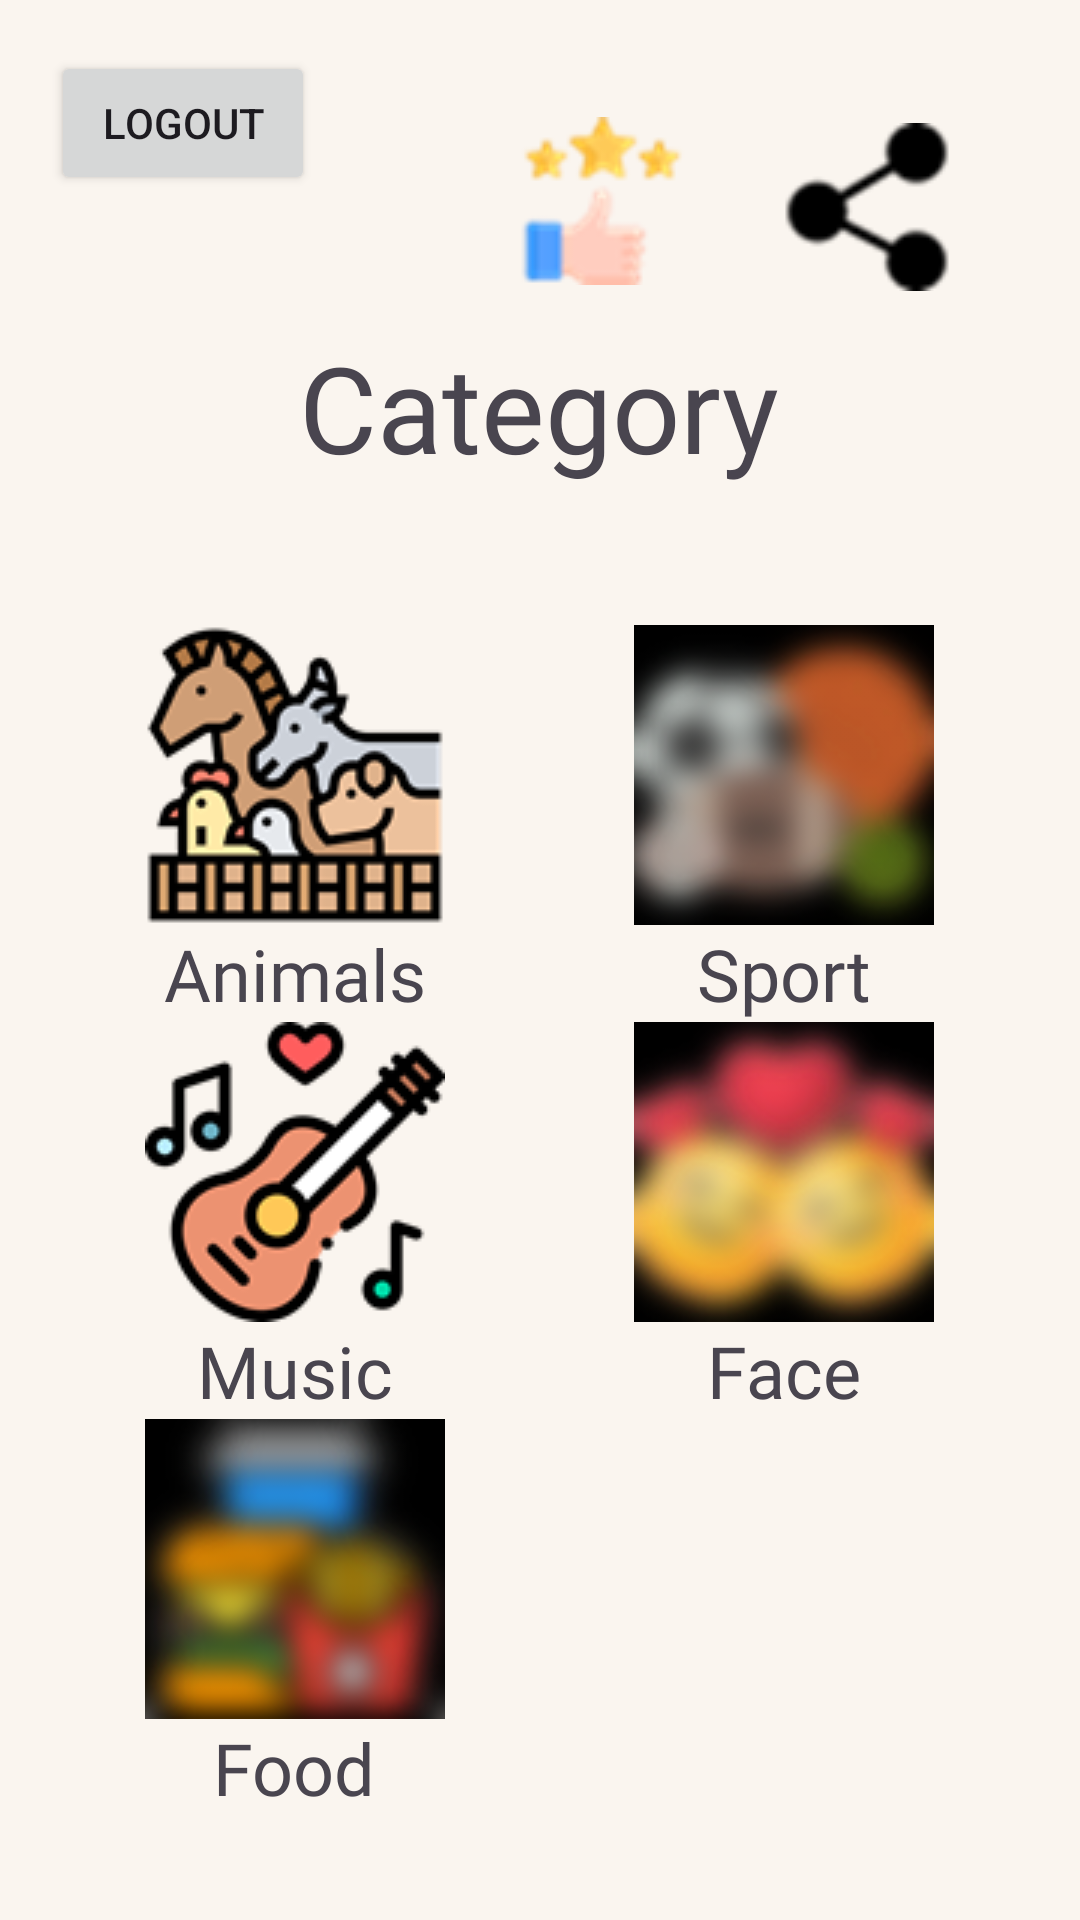

Icon bounding boxes for this 1080px x 1920px phone screenshot, format (x1, y1, x2, y2):
rating: (523, 117, 681, 285)
share: (785, 123, 949, 291)
